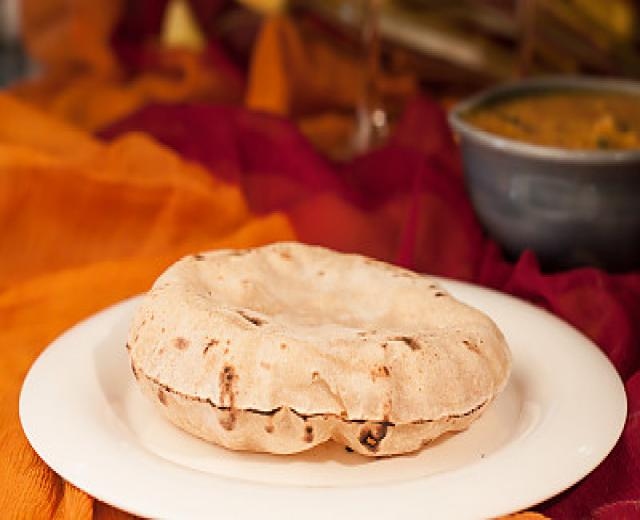chapati: (128, 243, 509, 454)
